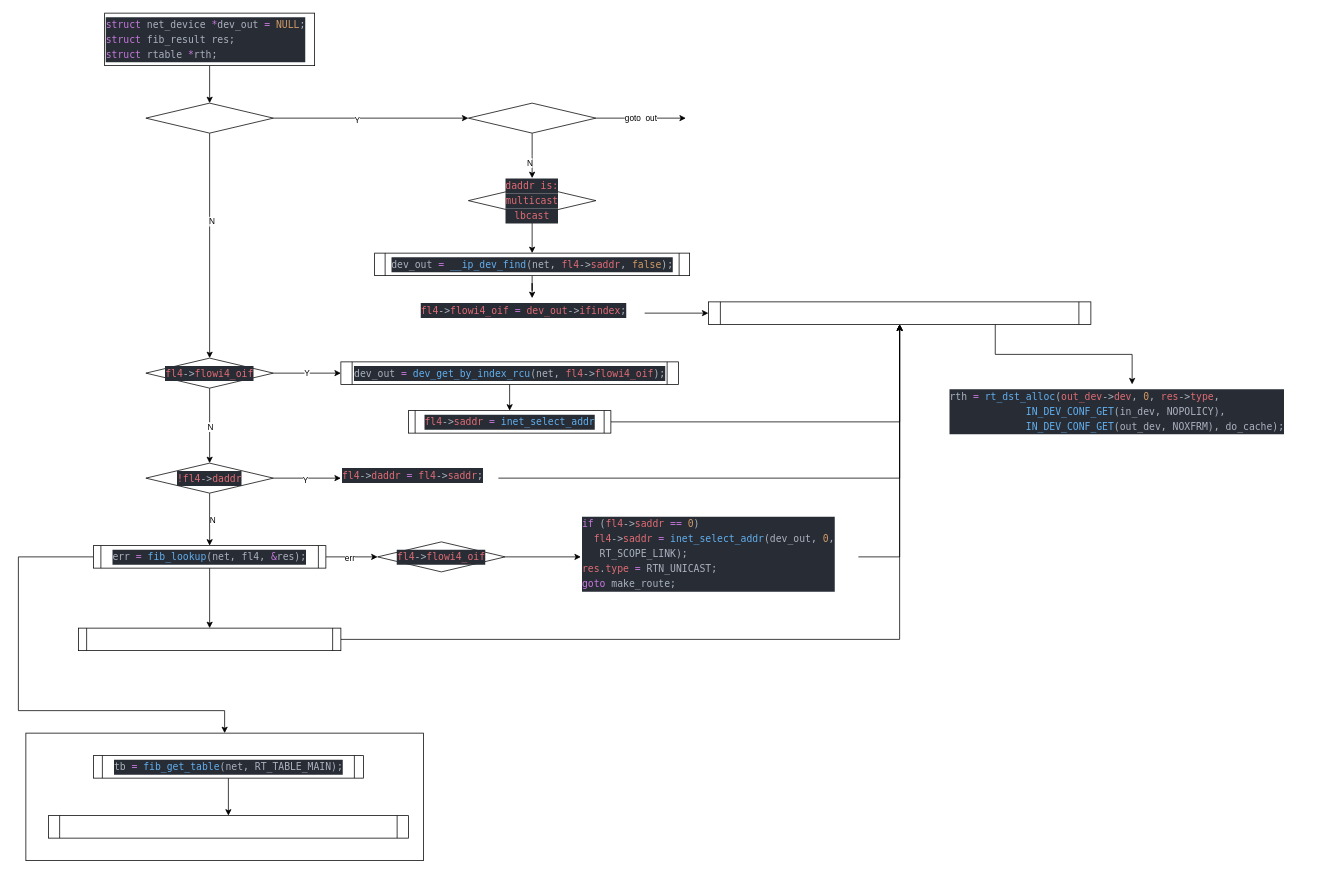
Image size: 1329x874. Some labels were removed from this diagram. The centre of each missing label's shape, as x and y in pixels:
"err = fib_table_lookup (tb, flp, res, FIB_LOOKUP_NOREF);" belongs at [228,826].
"fib_select_path (net, & res, fl4, skb);" belongs at [209,639].
"fl4 -> saddr" belongs at [209,117].
"rth = __mkroute_output ( & res, fl4, orig_oif, dev_out, flags);" belongs at [899,312].
"saddr is: multicast lbcast zearonet" belongs at [532,117].
